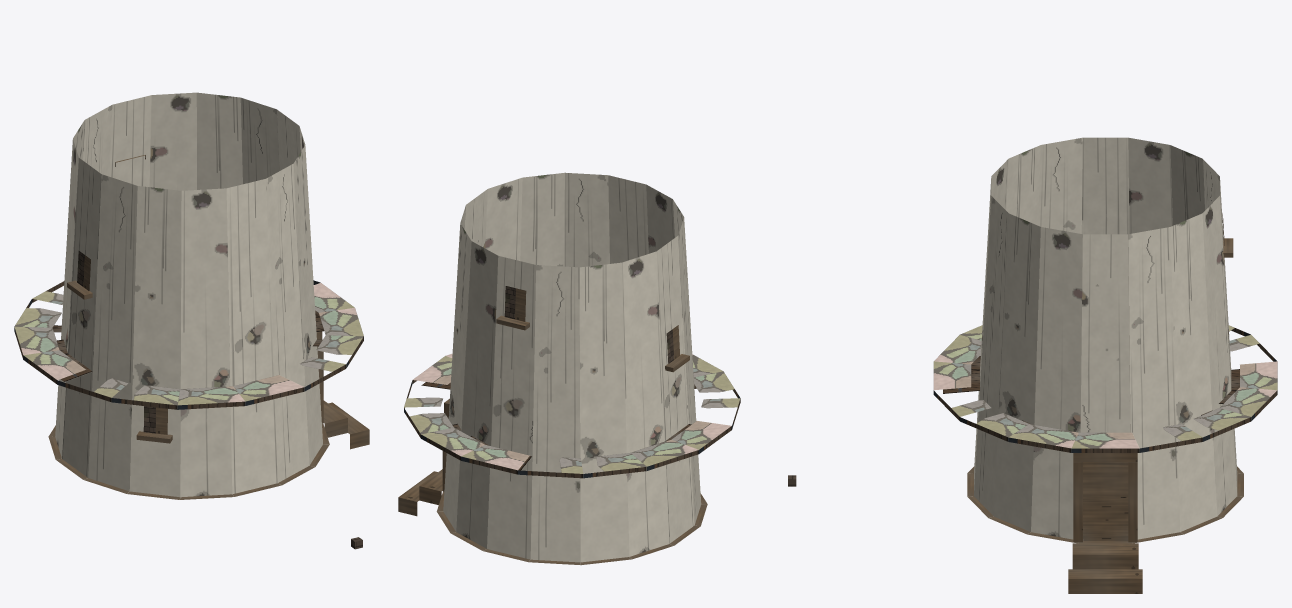
The model's file is moulin_corps_0.obj.
3 renders of one model, left to right at view 1: azimuth 30°, elevation 25°; view 2: azimuth 150°, elevation 25°; view 3: azimuth 270°, elevation 25°, orthographic. The views are drawn at different scales.
Visible parts, largest first — view 1: corps; view 2: corps; view 3: corps.
Boxes of the visible parts, x1,y1,x2,y2 form: corps: (14,92,369,549); corps: (398,172,740,565); corps: (788,137,1277,593).
Bounding box in the file's own units: 8.7 × 13.34 × 12.32.
